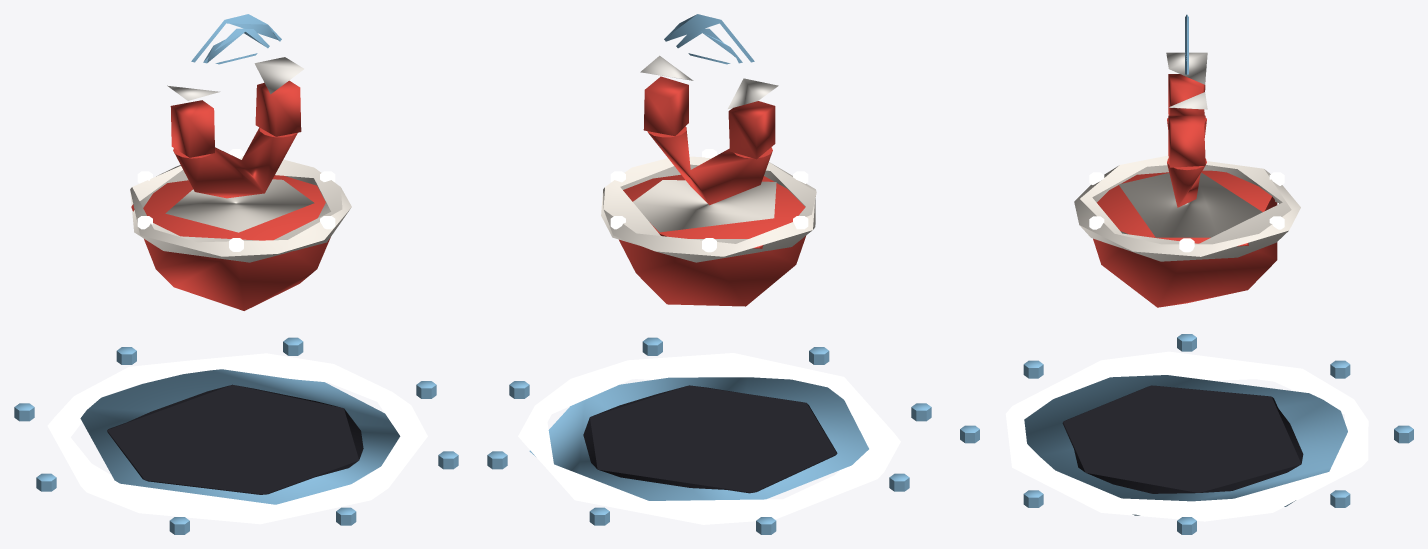
Rendered from pu_magnet.glb.
3 views of the same model, side by side, from view 1: azimuth 30°, elevation 25°; view 2: azimuth 150°, elevation 25°; view 3: azimuth 270°, elevation 25° (orthographic).
Parts seen in each view (by area): view 1: pu_magnet.002, capsule.005; view 2: pu_magnet.002, capsule.005; view 3: pu_magnet.002, capsule.005.
Part boxes in pixels (bbox=[...]): pu_magnet.002: bbox=[14, 337, 458, 534]; capsule.005: bbox=[130, 14, 351, 310]; pu_magnet.002: bbox=[487, 337, 931, 534]; capsule.005: bbox=[601, 14, 816, 306]; pu_magnet.002: bbox=[960, 334, 1413, 534]; capsule.005: bbox=[1074, 14, 1300, 307].
Size of the model in its own units: 1.56 by 1.62 by 1.57.
Materials: 1 (1 with a texture image).
